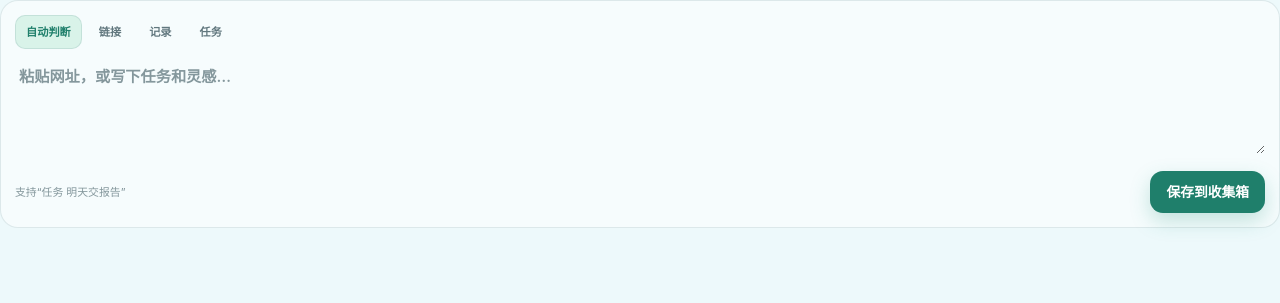
QuickCapture › allows forcing note mode and reports empty input
Click the button "记录".
click(160, 32)  # box x1=138 y1=15 x2=183 y2=49
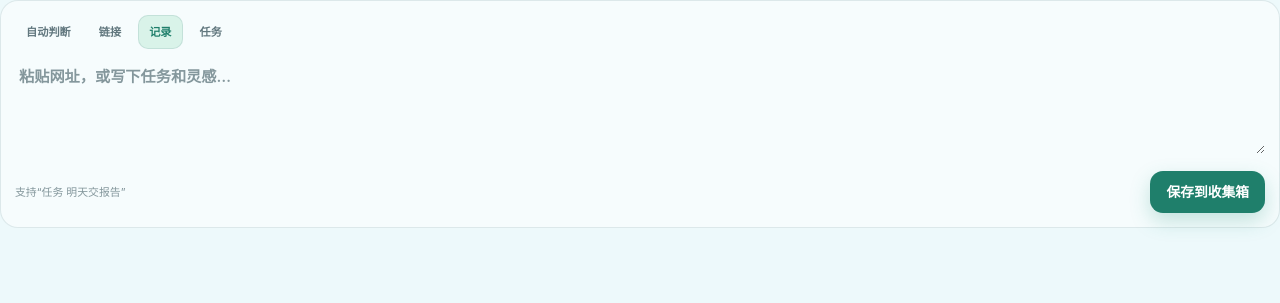
Type "example.com" into the text box named "快速收集内容".
click(640, 107); type("example.com")  # box x1=15 y1=60 x2=1265 y2=154
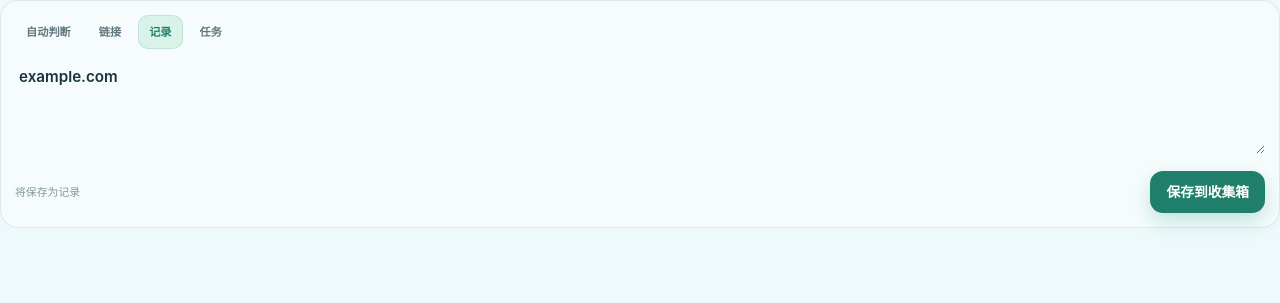
Click the button "保存到收集箱".
click(1208, 192)  # box x1=1150 y1=171 x2=1265 y2=213
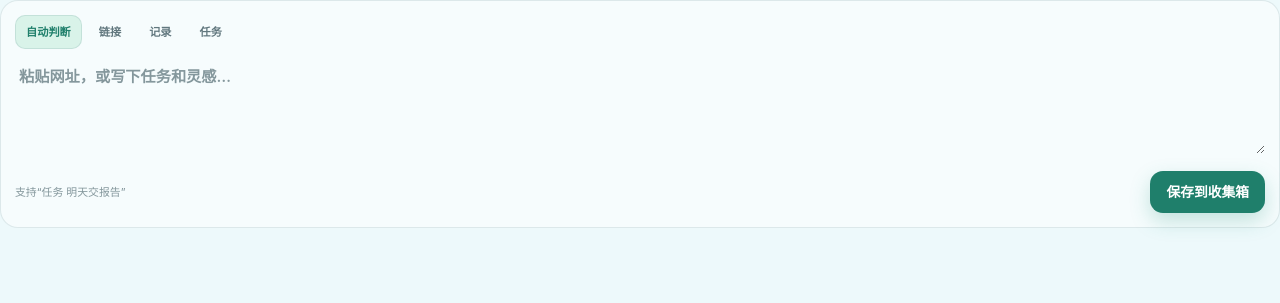
Click the button "保存到收集箱".
click(1208, 192)  # box x1=1150 y1=171 x2=1265 y2=213
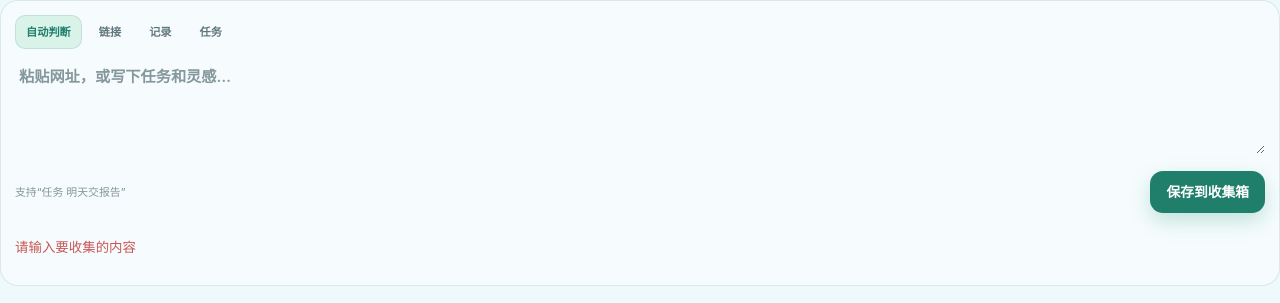
Now the message reads "请输入要收集的内容", box x1=15 y1=239 x2=136 y2=255
